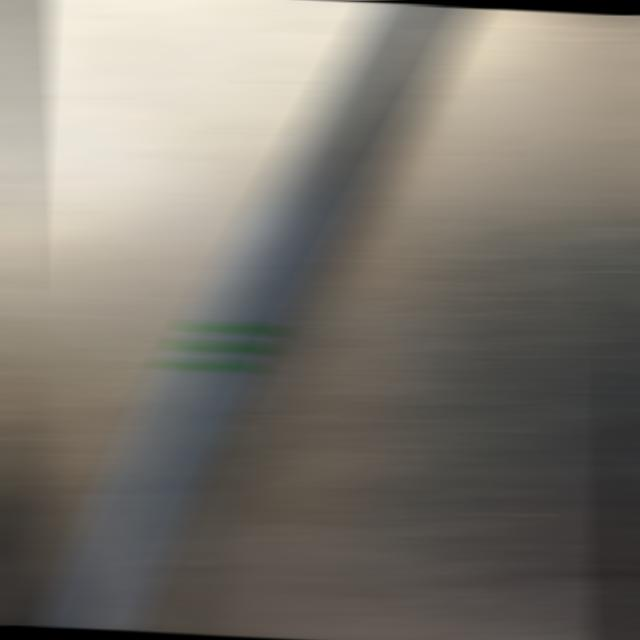green: (170, 320, 269, 379)
